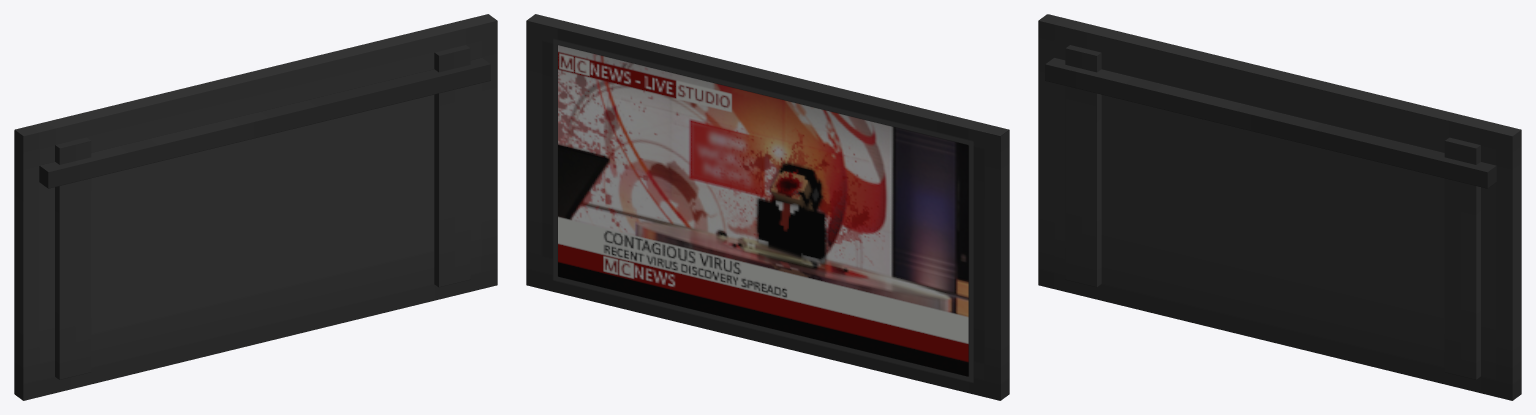
Rendered from flatscreen_t_v__news.obj.
The picture shows the model from 3 angles, left to right: view 1: azimuth 30°, elevation 25°; view 2: azimuth 150°, elevation 25°; view 3: azimuth 330°, elevation 25°; orthographic projection.
Parts seen in each view (by area): view 1: li, ll, lk, lj; view 2: lm, li; view 3: li, ll, lj, lk.
Part boxes in pixels (bbox=[...]): li: bbox=[14, 14, 497, 400]; ll: bbox=[39, 57, 490, 188]; lk: bbox=[434, 45, 470, 287]; lj: bbox=[55, 137, 91, 379]; lm: bbox=[558, 45, 968, 376]; li: bbox=[526, 14, 1009, 400]; li: bbox=[1038, 14, 1521, 400]; ll: bbox=[1045, 57, 1496, 188]; lj: bbox=[1065, 45, 1101, 287]; lk: bbox=[1444, 137, 1480, 379].
Bounding box in the file's own units: 1.88 × 1 × 0.1256.
Materials: 1 (1 with a texture image).
